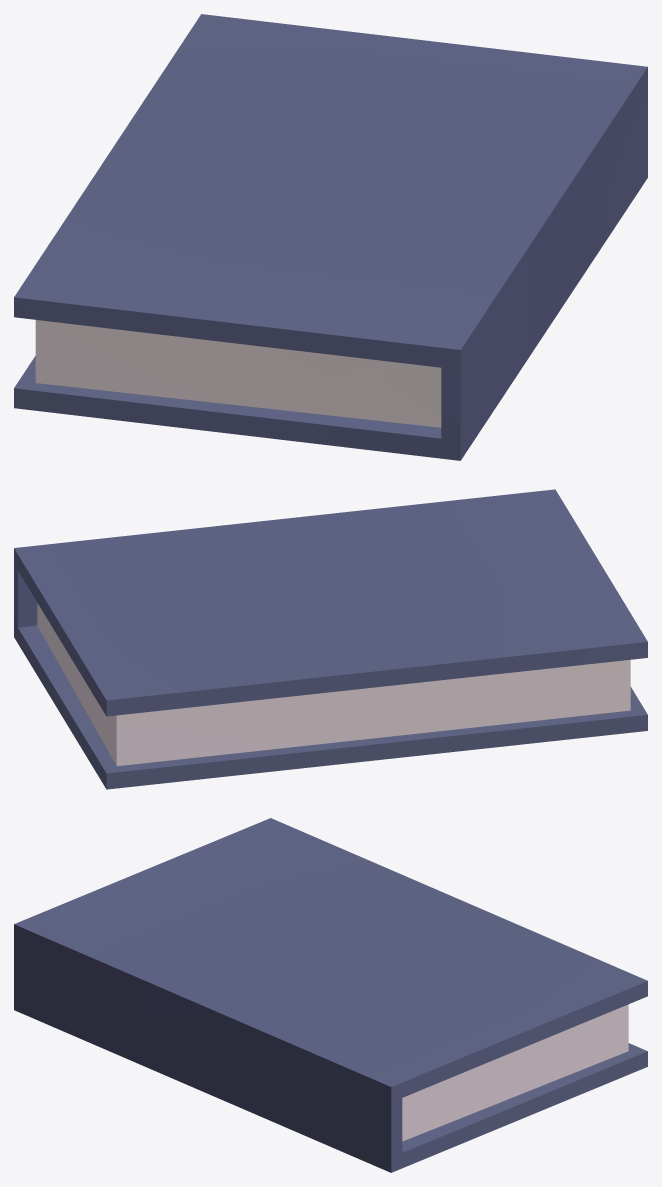
Rendered from book3.fbx.
3 views of the same model, one above another, from view 1: azimuth 30°, elevation 25°; view 2: azimuth 150°, elevation 25°; view 3: azimuth 270°, elevation 25° (orthographic). The views are drawn at different scales.
Parts seen in each view (by area): view 1: Cube.013; view 2: Cube.013; view 3: Cube.013.
Boxes of the visible parts, x1,y1,x2,y2 form: Cube.013: (14, 14, 647, 460); Cube.013: (14, 489, 647, 789); Cube.013: (14, 818, 647, 1172).
Size of the model in its own units: 61.62 by 9.17 by 61.36.
